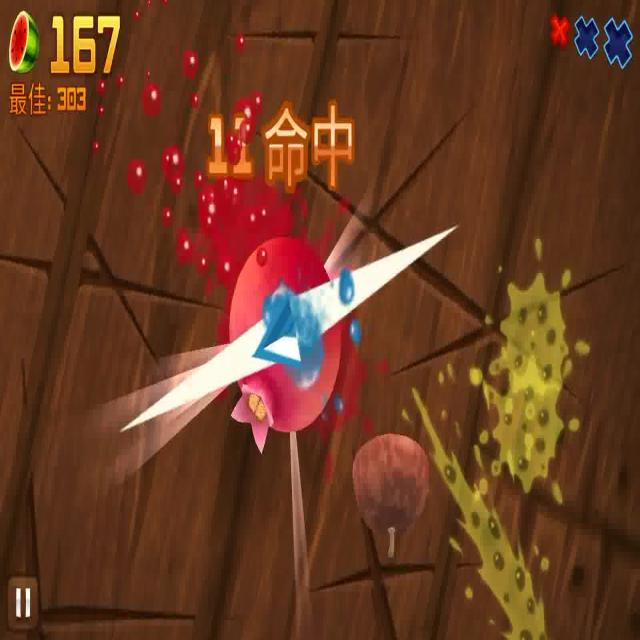fruit: (230, 242, 340, 428), (351, 434, 429, 547)
